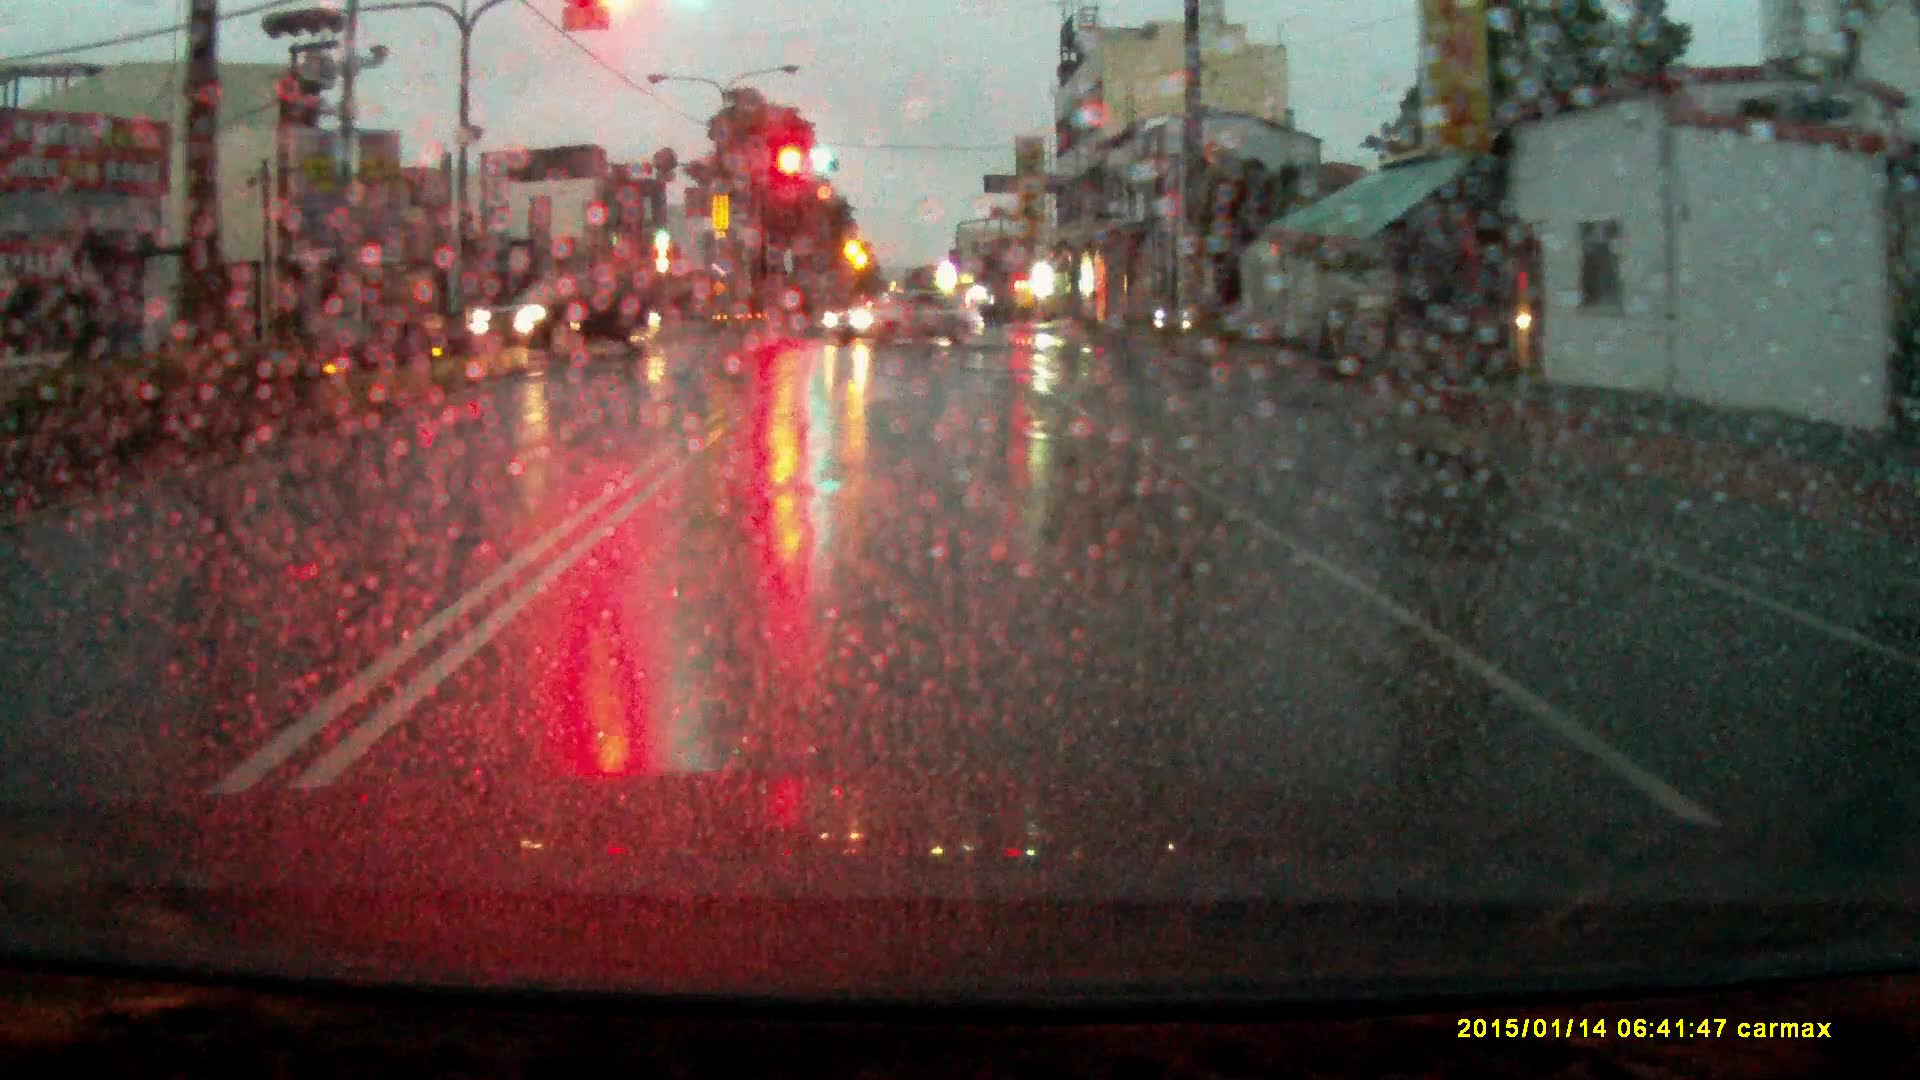vehicle: (469, 276, 665, 361), (825, 286, 984, 349)
